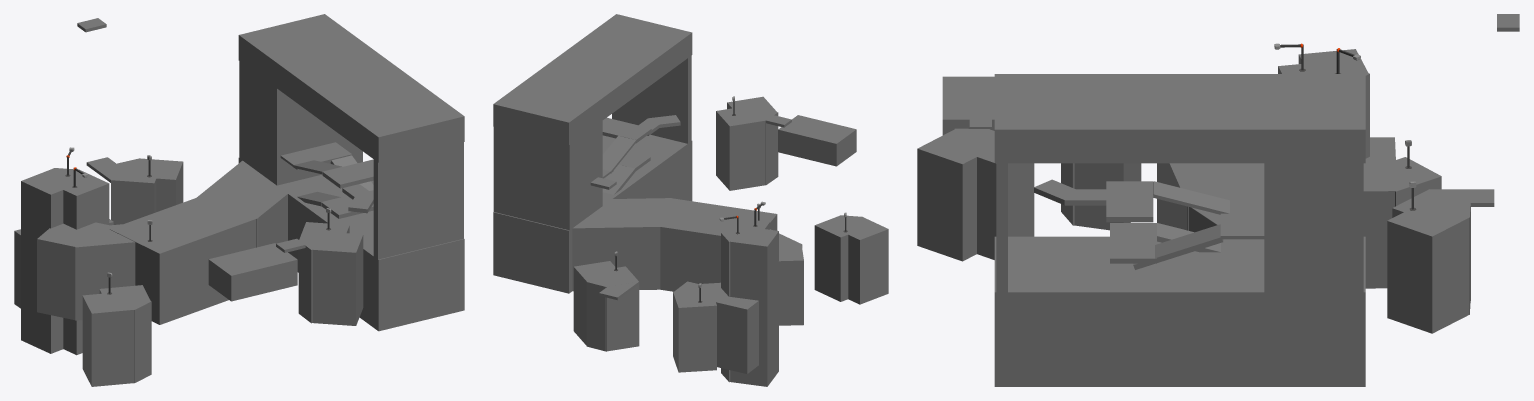
Rendered from MiningFiled_GreyBox.fbx.
3 renders of one model, left to right at view 1: azimuth 30°, elevation 25°; view 2: azimuth 150°, elevation 25°; view 3: azimuth 270°, elevation 25°, orthographic. The views are drawn at different scales.
Visible parts, largest first — view 1: Cube__10_, Cube__9_, Cube__7_, Cube__12_, Cube__11_, Platform__1__3, ZipPlatform__1_, Platform__1__2, Cube__8_, Cube__6_, Platform__2__4, ZipPlatform__3_ (+13 smaller); view 2: Cube__10_, Cube__11_, Cube__9_, Cube__8_, Cube__7_, Platform__1__3, ZipPlatform__7_, Platform__2_, Cube__12_, ZipPlatform__5_, ZipPlatform__1_, Cube__6_ (+14 smaller); view 3: Cube__9_, Cube__10_, Cube__11_, ZipPlatform, Platform__1__2, ZipPlatform__7_, Cube__7_, Platform__2_, Cube__6_, Platform__1__1, Cube__18_, ZipPlatform__5_ (+16 smaller).
Boxes of the visible parts, bbox=[...] form: Cube__10_: bbox=[238, 14, 464, 162]; Cube__9_: bbox=[238, 158, 464, 331]; Cube__7_: bbox=[109, 198, 258, 324]; Cube__12_: bbox=[373, 142, 463, 263]; Cube__11_: bbox=[239, 57, 362, 185]; Platform__1__3: bbox=[21, 168, 82, 353]; ZipPlatform__1_: bbox=[82, 291, 134, 386]; Platform__1__2: bbox=[312, 231, 363, 325]; Cube__8_: bbox=[189, 160, 306, 247]; Cube__6_: bbox=[208, 243, 297, 301]; Platform__2__4: bbox=[66, 224, 135, 320]; ZipPlatform__3_: bbox=[37, 223, 95, 319]; Cube__10_: bbox=[493, 14, 692, 144]; Cube__11_: bbox=[493, 118, 602, 233]; Cube__9_: bbox=[493, 134, 692, 293]; Cube__8_: bbox=[572, 198, 674, 291]; Cube__7_: bbox=[660, 198, 777, 291]; Platform__1__3: bbox=[730, 229, 778, 386]; ZipPlatform__7_: bbox=[716, 105, 765, 190]; Platform__2_: bbox=[673, 281, 758, 373]; Cube__12_: bbox=[612, 55, 691, 145]; ZipPlatform__5_: bbox=[673, 289, 716, 372]; ZipPlatform__1_: bbox=[834, 217, 888, 304]; Cube__6_: bbox=[778, 115, 856, 166]; Cube__9_: bbox=[994, 236, 1365, 386]; Cube__10_: bbox=[994, 74, 1365, 163]; Cube__11_: bbox=[1264, 159, 1363, 297]; ZipPlatform: bbox=[1387, 209, 1468, 333]; Platform__1__2: bbox=[917, 129, 994, 261]; ZipPlatform__7_: bbox=[959, 129, 1034, 259]; Cube__7_: bbox=[1157, 163, 1264, 230]; Platform__2_: bbox=[1363, 137, 1395, 288]; Cube__6_: bbox=[942, 76, 994, 135]; Platform__1__1: bbox=[1072, 163, 1141, 230]; Cube__18_: bbox=[1106, 181, 1153, 222]; ZipPlatform__5_: bbox=[1363, 157, 1441, 206].
Bounding box in the file's own units: 9822 × 6844 × 11330.
